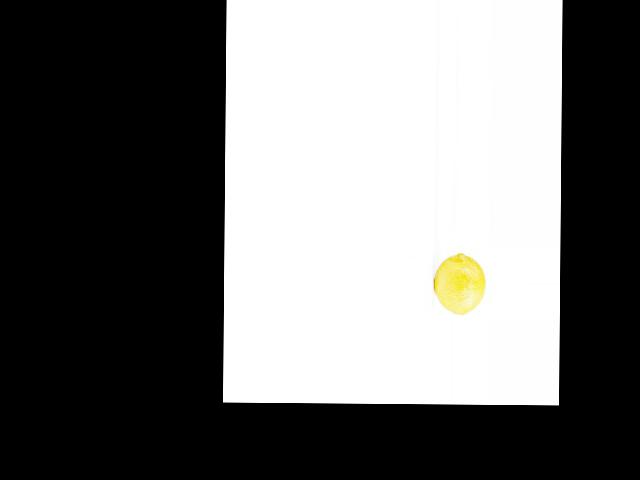lemon: (432, 243, 487, 321)
